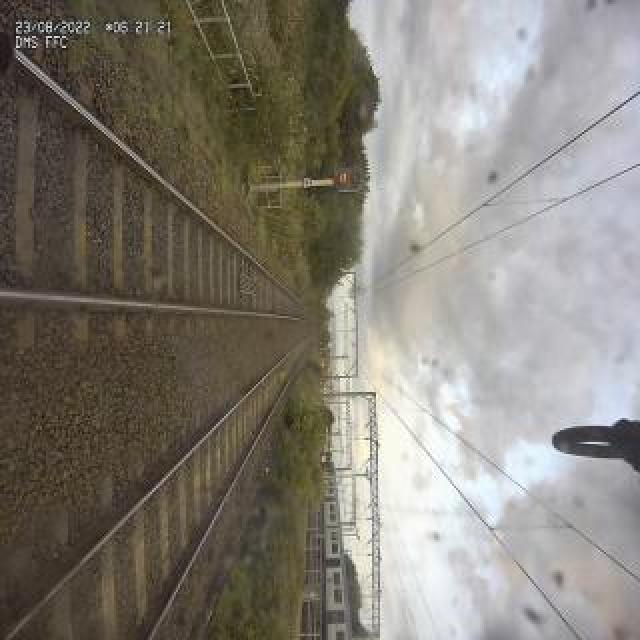Signal-Green: (336, 171, 364, 191)
